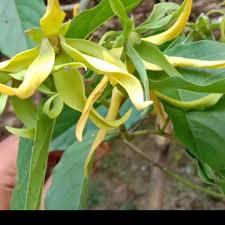ylang-ylang: (92, 28, 199, 131), (25, 18, 90, 78)
